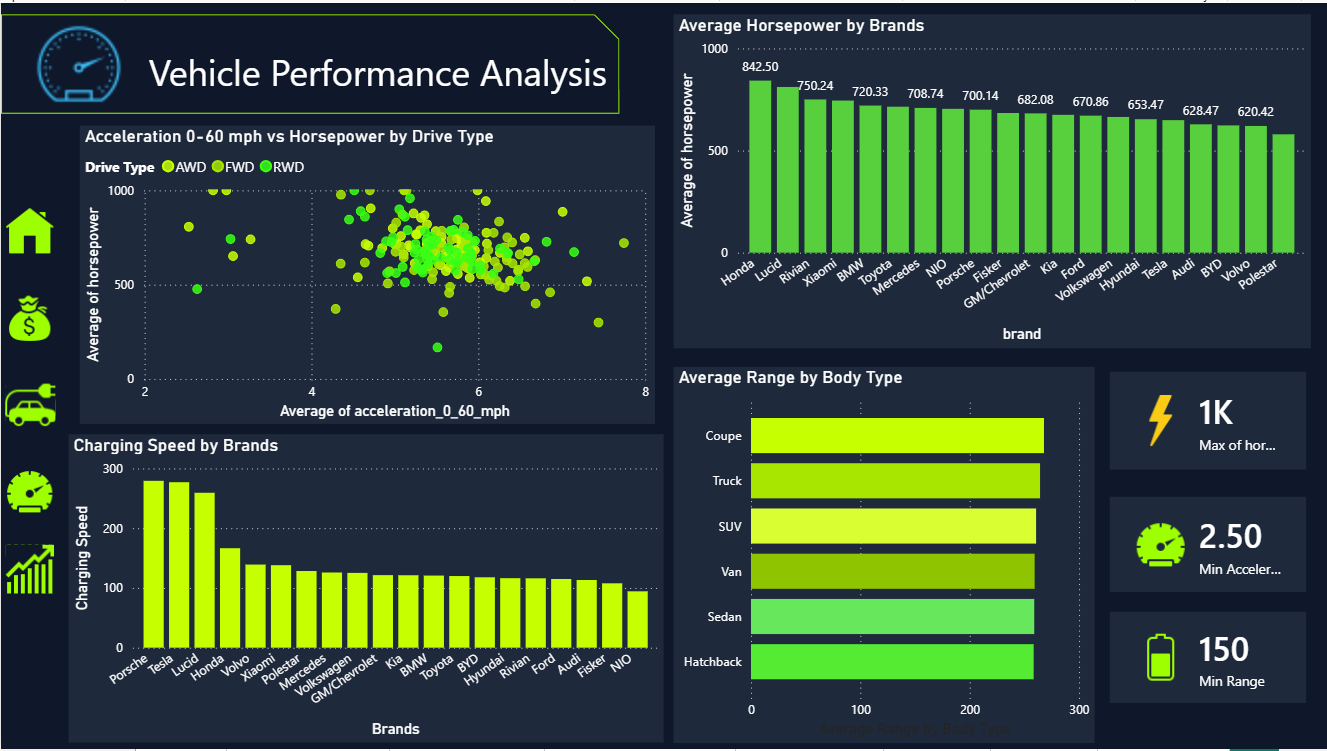

What the dashboard file says about the page in this screenshot:
{"tool":"powerbi","page":{"name":"Peformance Analysis","canvas":[1280,720],"ordinal":3},"visuals":[{"type":"columnChart","title":"Average Horsepower by Brands","fields":{"Category":["ev_market_2026.brand"],"Y":["Avg(ev_market_2026.horsepower)"]},"box":[649.1,10.9,615.3,322.1],"z":0},{"type":"scatterChart","title":"Acceleration 0-60 mph vs Horsepower by Drive Type","fields":{"Category":["ev_market_2026.model"],"Series":["ev_market_2026.drive_type"],"X":["Avg(ev_market_2026.acceleration_0_60_mph)"],"Y":["Avg(ev_market_2026.horsepower)"]},"box":[76,118.2,555,288.3],"z":1000},{"type":"barChart","title":"Average Range by Body Type","fields":{"Category":["ev_market_2026.body_type"],"Y":["Avg(ev_market_2026.range_miles)"]},"box":[649.1,351.1,406.6,363.1],"z":2000},{"type":"clusteredColumnChart","fields":{"Category":["ev_market_2026.brand"],"Y":["Avg(ev_market_2026.charging_speed_kw)"]},"box":[65.1,416.2,574.3,298],"z":3000},{"type":"cardVisual","fields":{"Data":["Min(ev_market_2026.acceleration_0_60_mph)"]},"box":[1065.3,471.7,199.1,102.5],"z":4000},{"type":"cardVisual","fields":{"Data":["Min(ev_market_2026.range_miles)"]},"box":[1065.3,582.7,199.1,98.9],"z":5000},{"type":"cardVisual","fields":{"Data":["Max(ev_market_2026.horsepower)"]},"box":[1065.3,351.1,199.1,105],"z":6000},{"type":"shape","box":[0,11,596.9,96.1],"z":7000},{"type":"image","box":[0,11,150.9,96.1],"z":8000},{"type":"actionButton","box":[0,193,57.9,55.5],"z":9000},{"type":"actionButton","box":[0,277.5,63.9,55.5],"z":10000},{"type":"actionButton","box":[0,359.5,65.1,56.7],"z":11000},{"type":"actionButton","box":[0,444,63.9,55.5],"z":12000},{"type":"actionButton","box":[0,518.8,62.7,55.5],"z":13000}]}

Visuals, with their boxes in screenshot pixels (x1, y1, x2, y2), scaled from the page's 1280x720 canvas onto the 1327x751 screenshot:
"Average Horsepower by Brands" columnChart: x1=673 y1=11 x2=1311 y2=347
"Acceleration 0-60 mph vs Horsepower by Drive Type" scatterChart: x1=79 y1=123 x2=654 y2=424
"Average Range by Body Type" barChart: x1=673 y1=366 x2=1094 y2=745
clusteredColumnChart - ev_market_2026.brand x Avg(ev_market_2026.charging_speed_kw): x1=67 y1=434 x2=663 y2=745
cardVisual - Min(ev_market_2026.acceleration_0_60_mph): x1=1104 y1=492 x2=1311 y2=599
cardVisual - Min(ev_market_2026.range_miles): x1=1104 y1=608 x2=1311 y2=711
cardVisual - Max(ev_market_2026.horsepower): x1=1104 y1=366 x2=1311 y2=476
shape: x1=0 y1=11 x2=619 y2=112
image: x1=0 y1=11 x2=156 y2=112
actionButton: x1=0 y1=201 x2=60 y2=259
actionButton: x1=0 y1=289 x2=66 y2=347
actionButton: x1=0 y1=375 x2=67 y2=434
actionButton: x1=0 y1=463 x2=66 y2=521
actionButton: x1=0 y1=541 x2=65 y2=599
